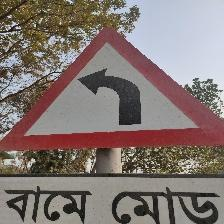Left-Turn: (0, 18, 224, 224)
